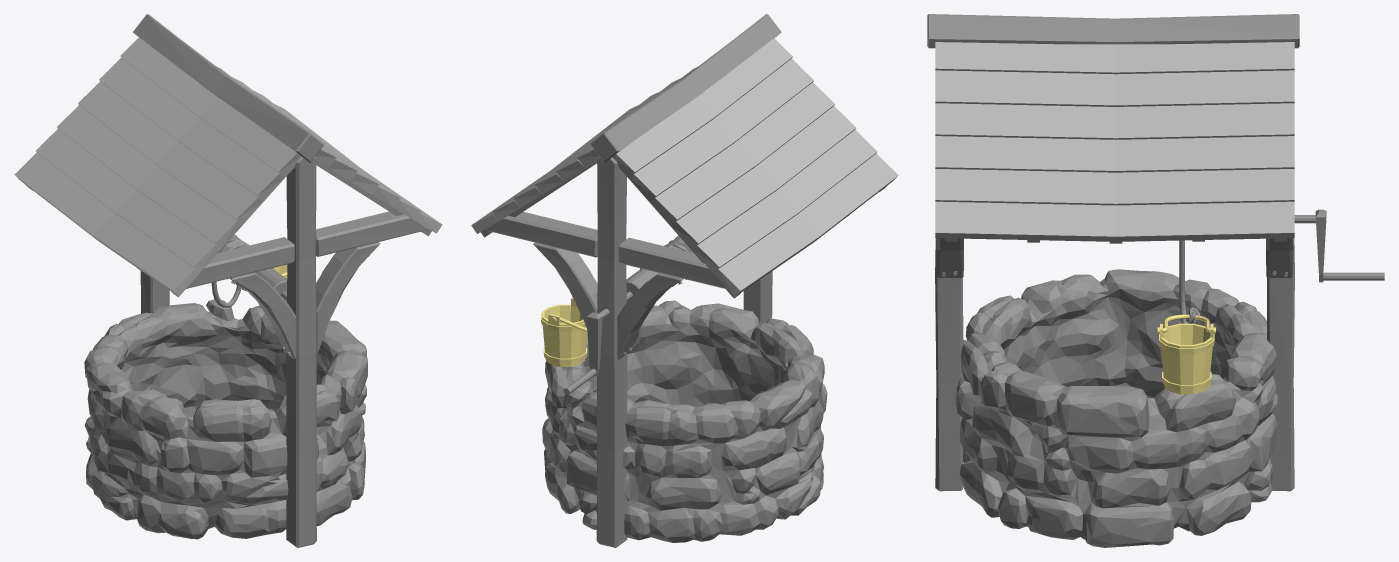
File: Well_bak_MayaBinary.fbx
3 renders of one model, left to right at view 1: azimuth 30°, elevation 25°; view 2: azimuth 150°, elevation 25°; view 3: azimuth 270°, elevation 25°, orthographic. The views are drawn at different scales.
Parts seen in each view (by area): view 1: Well_LP; view 2: Well_LP; view 3: Well_LP.
Boxes of the visible parts, x1=… form: Well_LP: x1=14, y1=14, x2=442, y2=547; Well_LP: x1=471, y1=14, x2=898, y2=547; Well_LP: x1=927, y1=14, x2=1384, y2=547.
Bounding box in the file's own units: 181 × 234 × 267.
